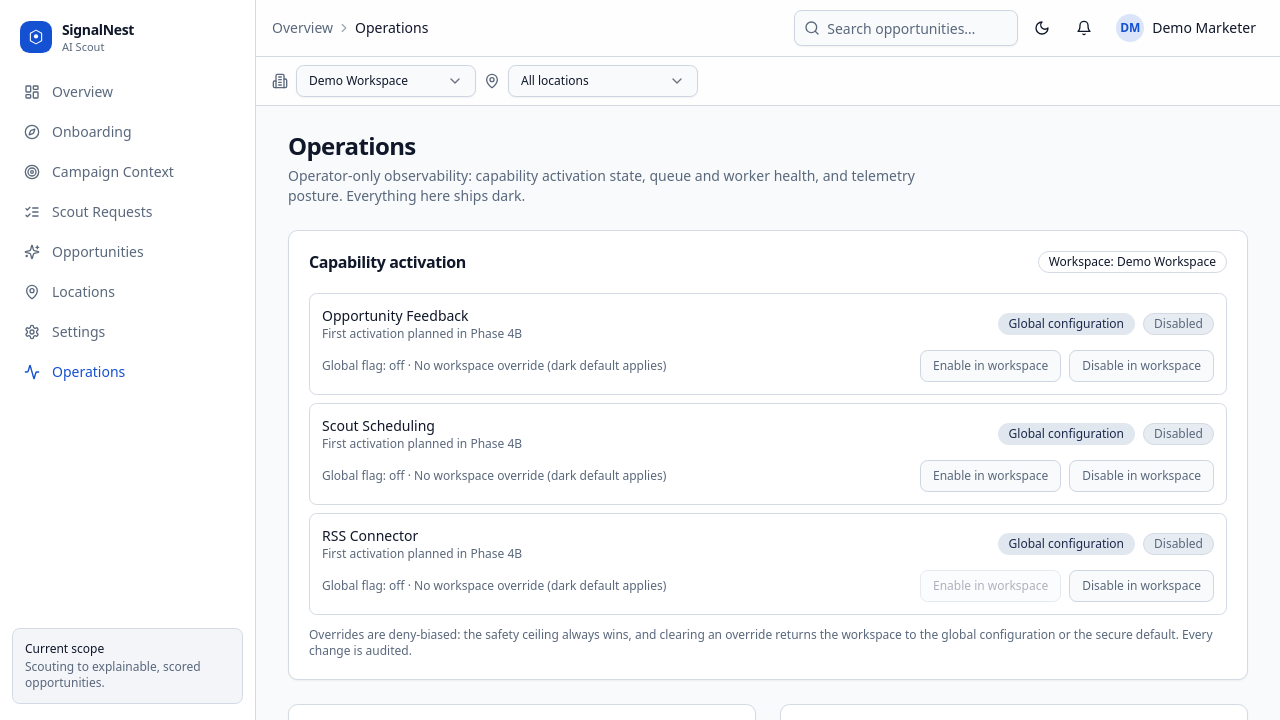
Test: operations page — override mutations › clears an override behind a destructive confirmation, returning to the dark default
Click the 2nd button "Disable in workspace".
click(1142, 476)  # box 1069,460 -> 1214,492
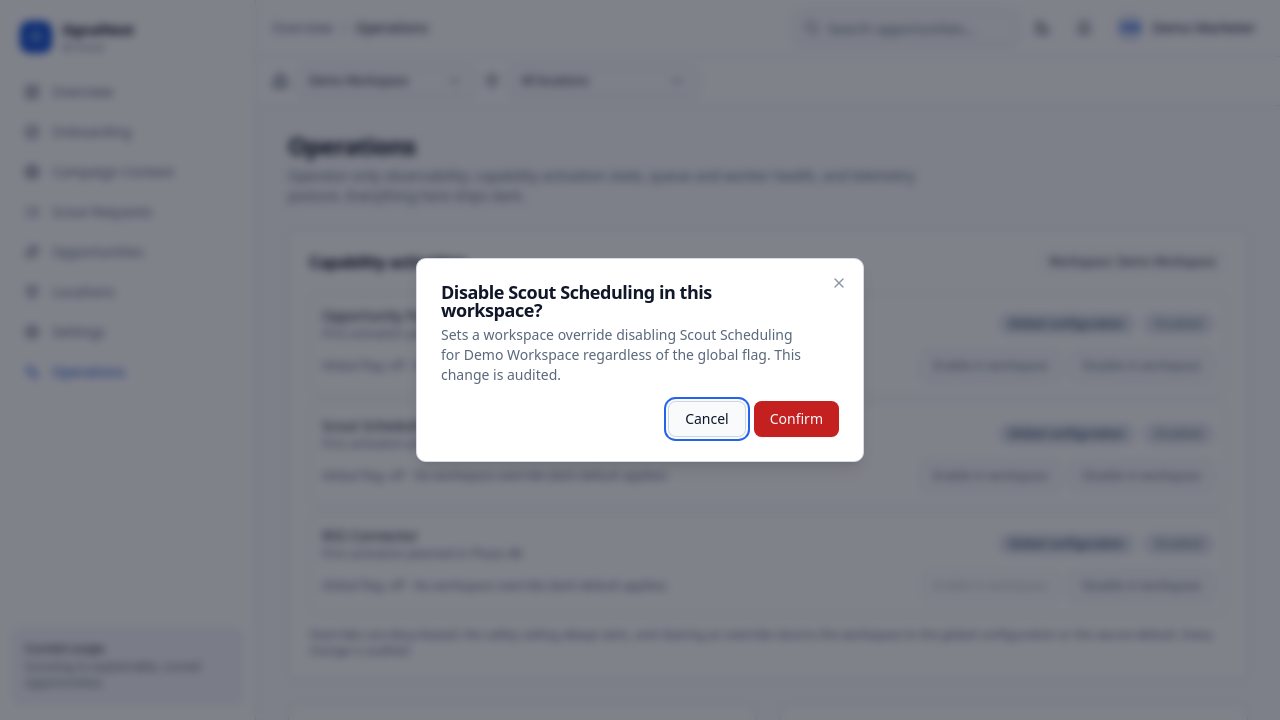
Click the button "Confirm".
click(796, 419)  # box 754,401 -> 839,437
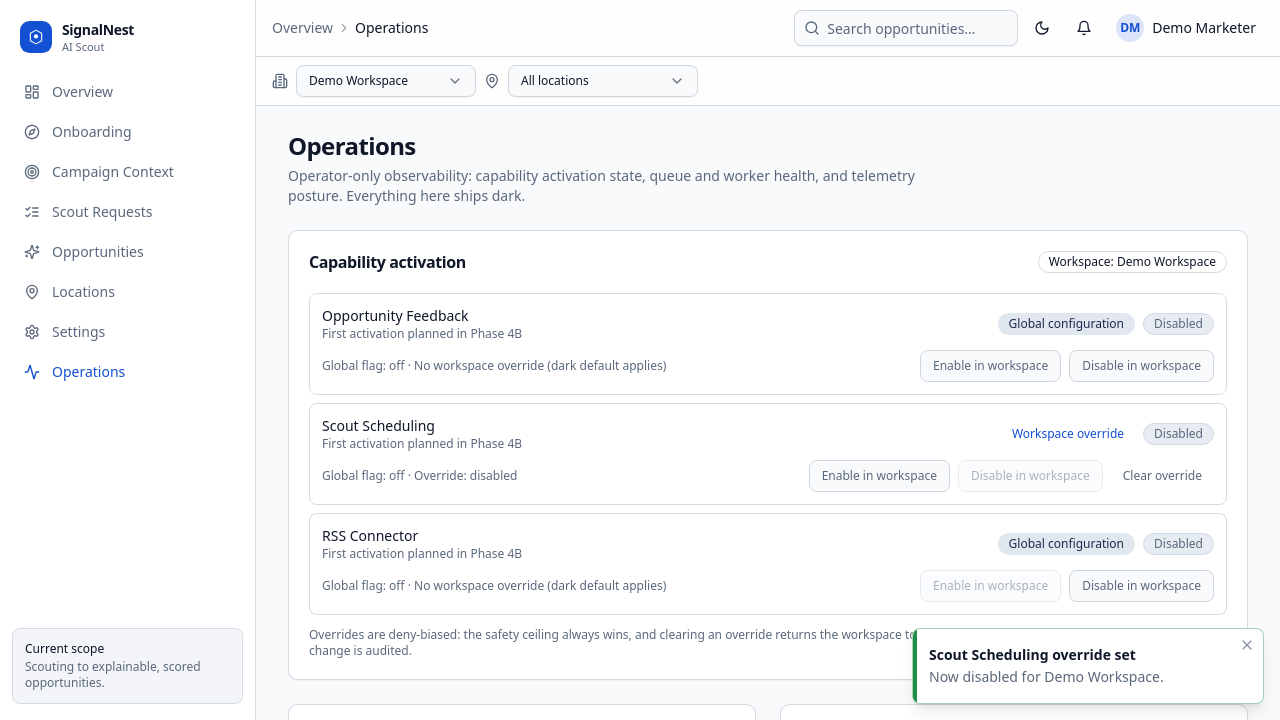
expect the text "Workspace override" is shown: met, box 1012,425 -> 1124,442
Click the button "Clear override".
click(1162, 476)  # box 1111,460 -> 1214,492
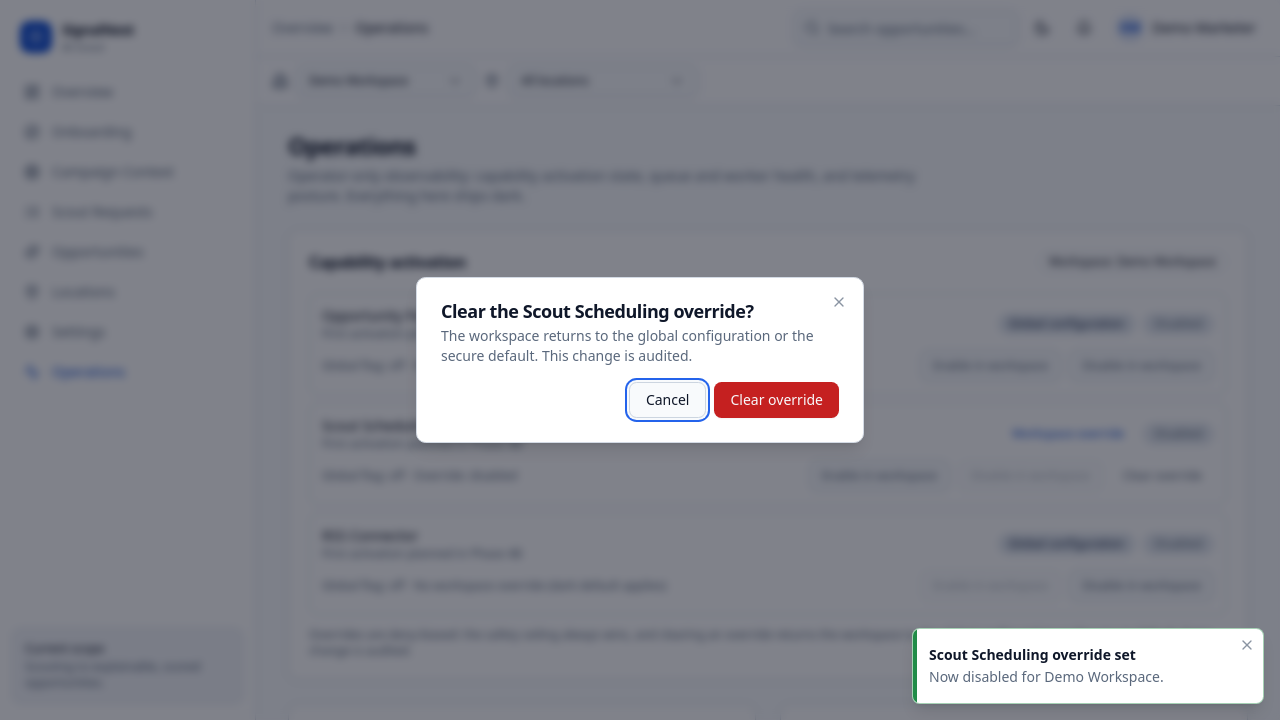
Click the button "Clear override".
click(777, 400)  # box 714,382 -> 839,418
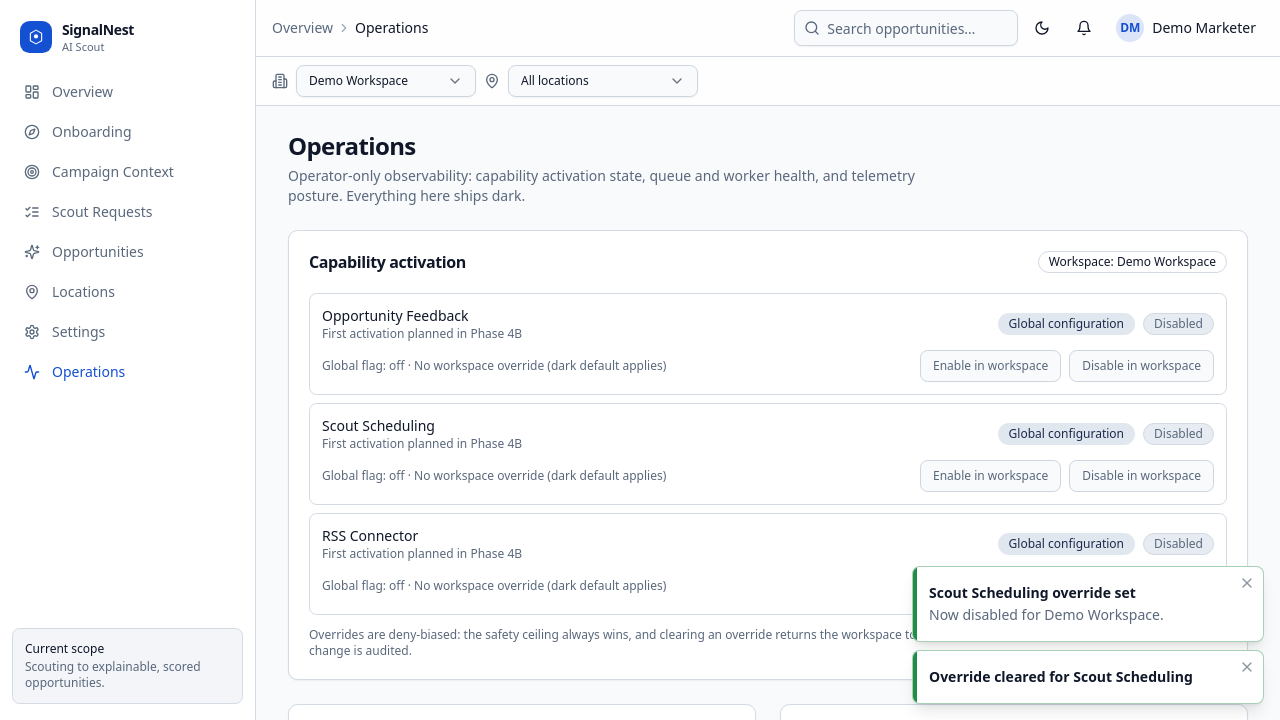
expect the 2nd text "Disabled" is shown: met, box 1143,423 -> 1214,445
expect the text "Override cleared for Scout Scheduling" is shown: met, box 929,667 -> 1193,687
expect the 2nd text "Global configuration" is shown: met, box 998,423 -> 1135,445
